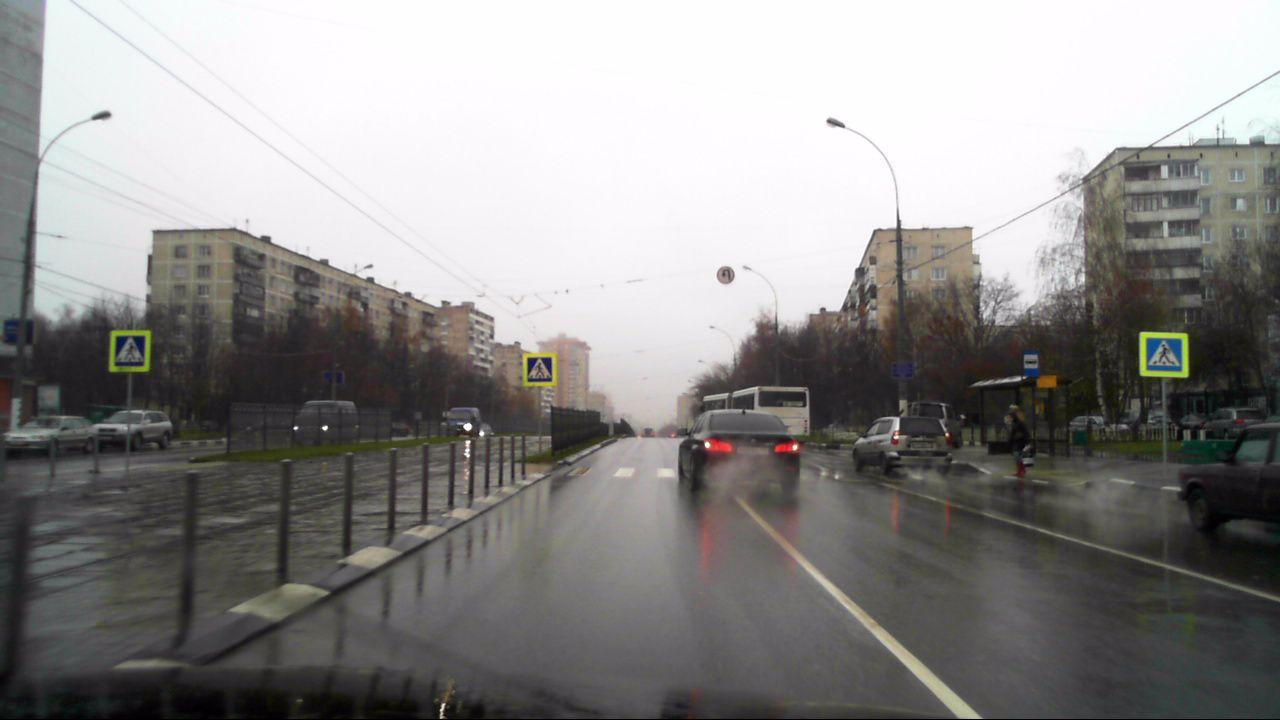3_19: (716, 266, 735, 285)
5_16: (1022, 351, 1041, 375)
5_19_1: (1143, 333, 1183, 373), (111, 336, 144, 366)
5_19_2: (527, 353, 554, 381)
